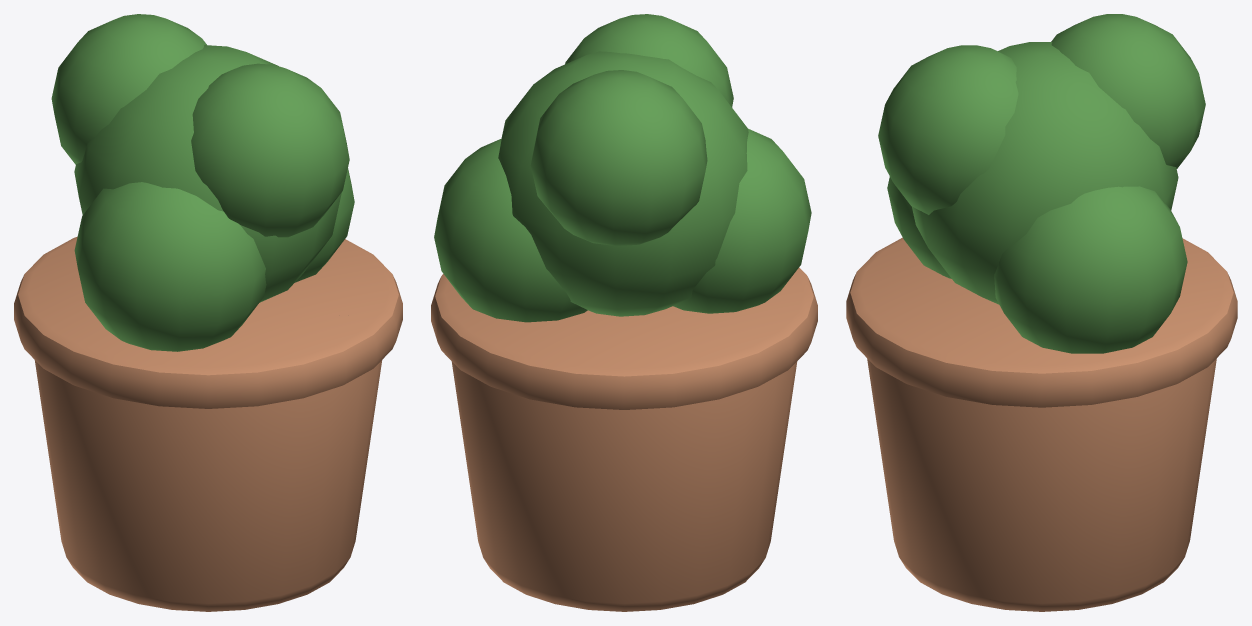
Rendered from plant_pot.glb.
3 views of the same model, side by side, from view 1: azimuth 30°, elevation 25°; view 2: azimuth 150°, elevation 25°; view 3: azimuth 270°, elevation 25° (orthographic).
Parts seen in each view (by area): view 1: pot, leaf; view 2: pot, leaf; view 3: pot, leaf.
Part boxes in pixels (left/top/right/bottom): pot: left=14, top=236, right=402, bottom=611; leaf: left=51, top=14, right=354, bottom=351; pot: left=431, top=267, right=817, bottom=611; leaf: left=434, top=14, right=811, bottom=322; pot: left=846, top=237, right=1237, bottom=611; leaf: left=878, top=14, right=1205, bottom=353.
Size of the model in its own units: 0.43 by 0.63 by 0.43.
